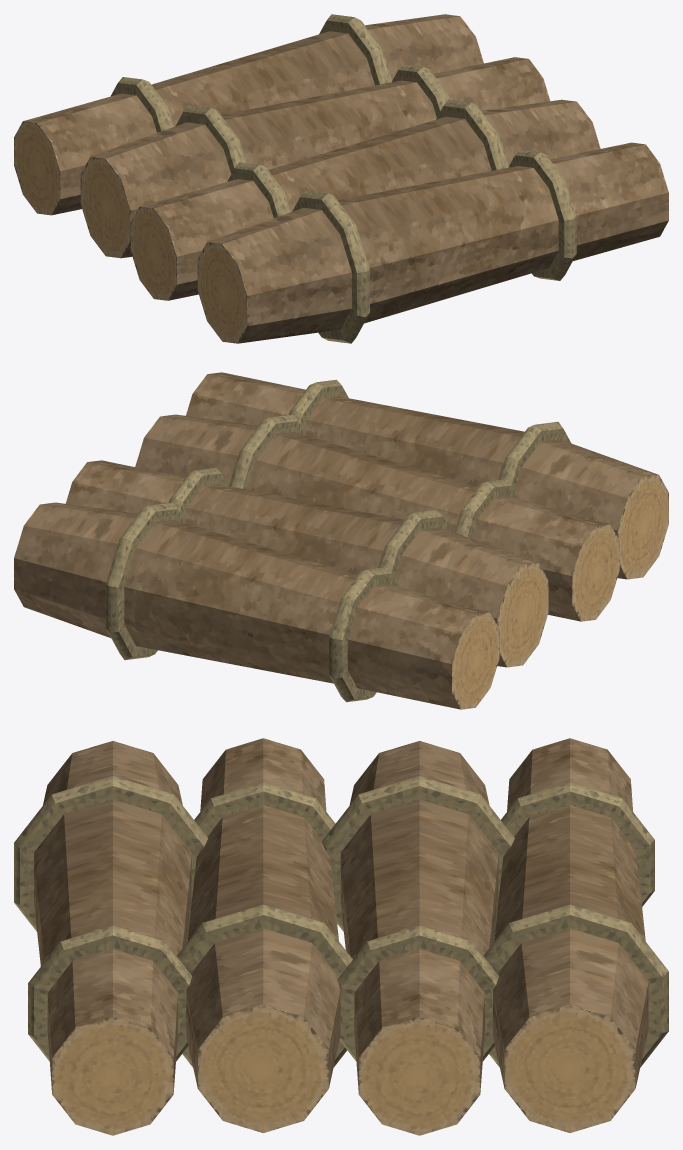
The model's file is raft.fbx.
The picture shows the model from 3 angles, top to bottom: view 1: azimuth 30°, elevation 25°; view 2: azimuth 150°, elevation 25°; view 3: azimuth 270°, elevation 25°; orthographic projection. The views are drawn at different scales.
Parts seen in each view (by area): view 1: raft; view 2: raft; view 3: raft.
Part boxes in pixels (x1,y1,x2,y2): raft: (14,14,668,343); raft: (14,372,668,709); raft: (14,738,668,1135).
Size of the model in its own units: 73.82 by 23.9 by 73.3.
